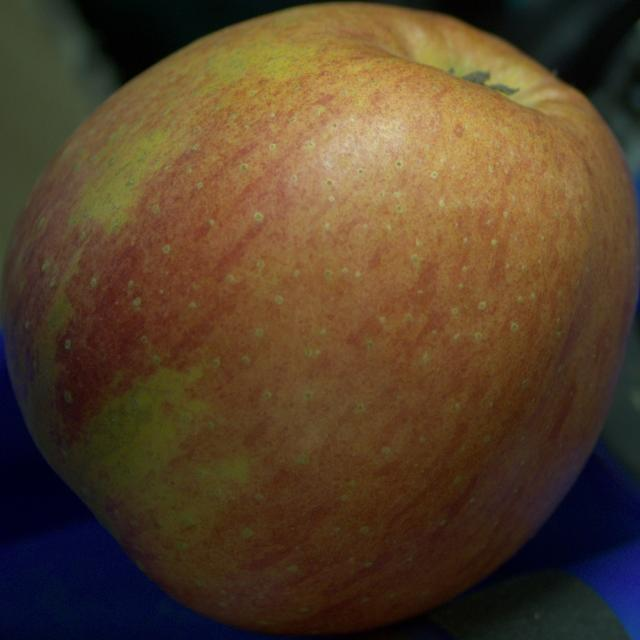apple: (0, 2, 639, 634)
